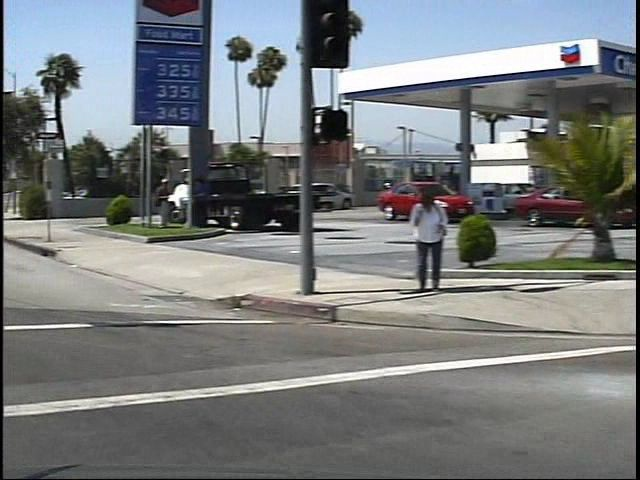person: (396, 183, 438, 294), (145, 174, 167, 232)
